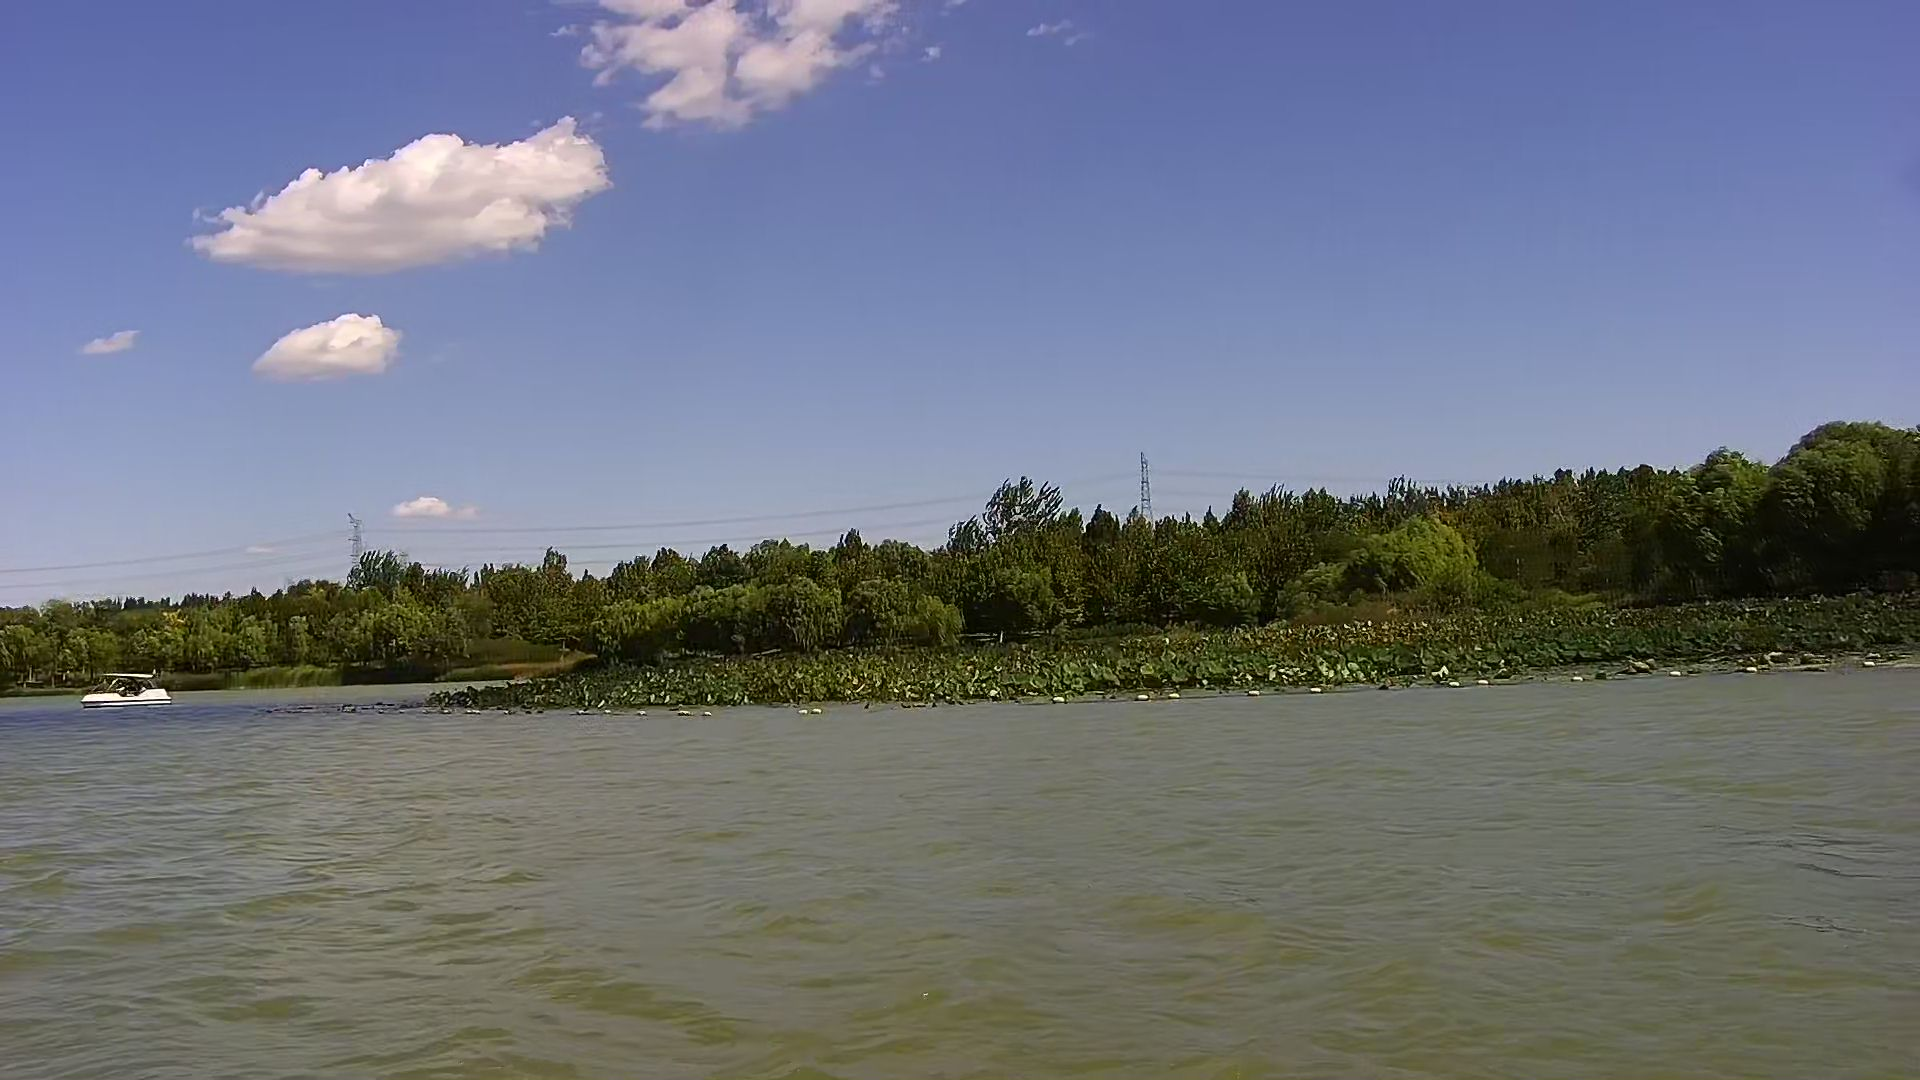boat: (80, 666, 182, 713)
